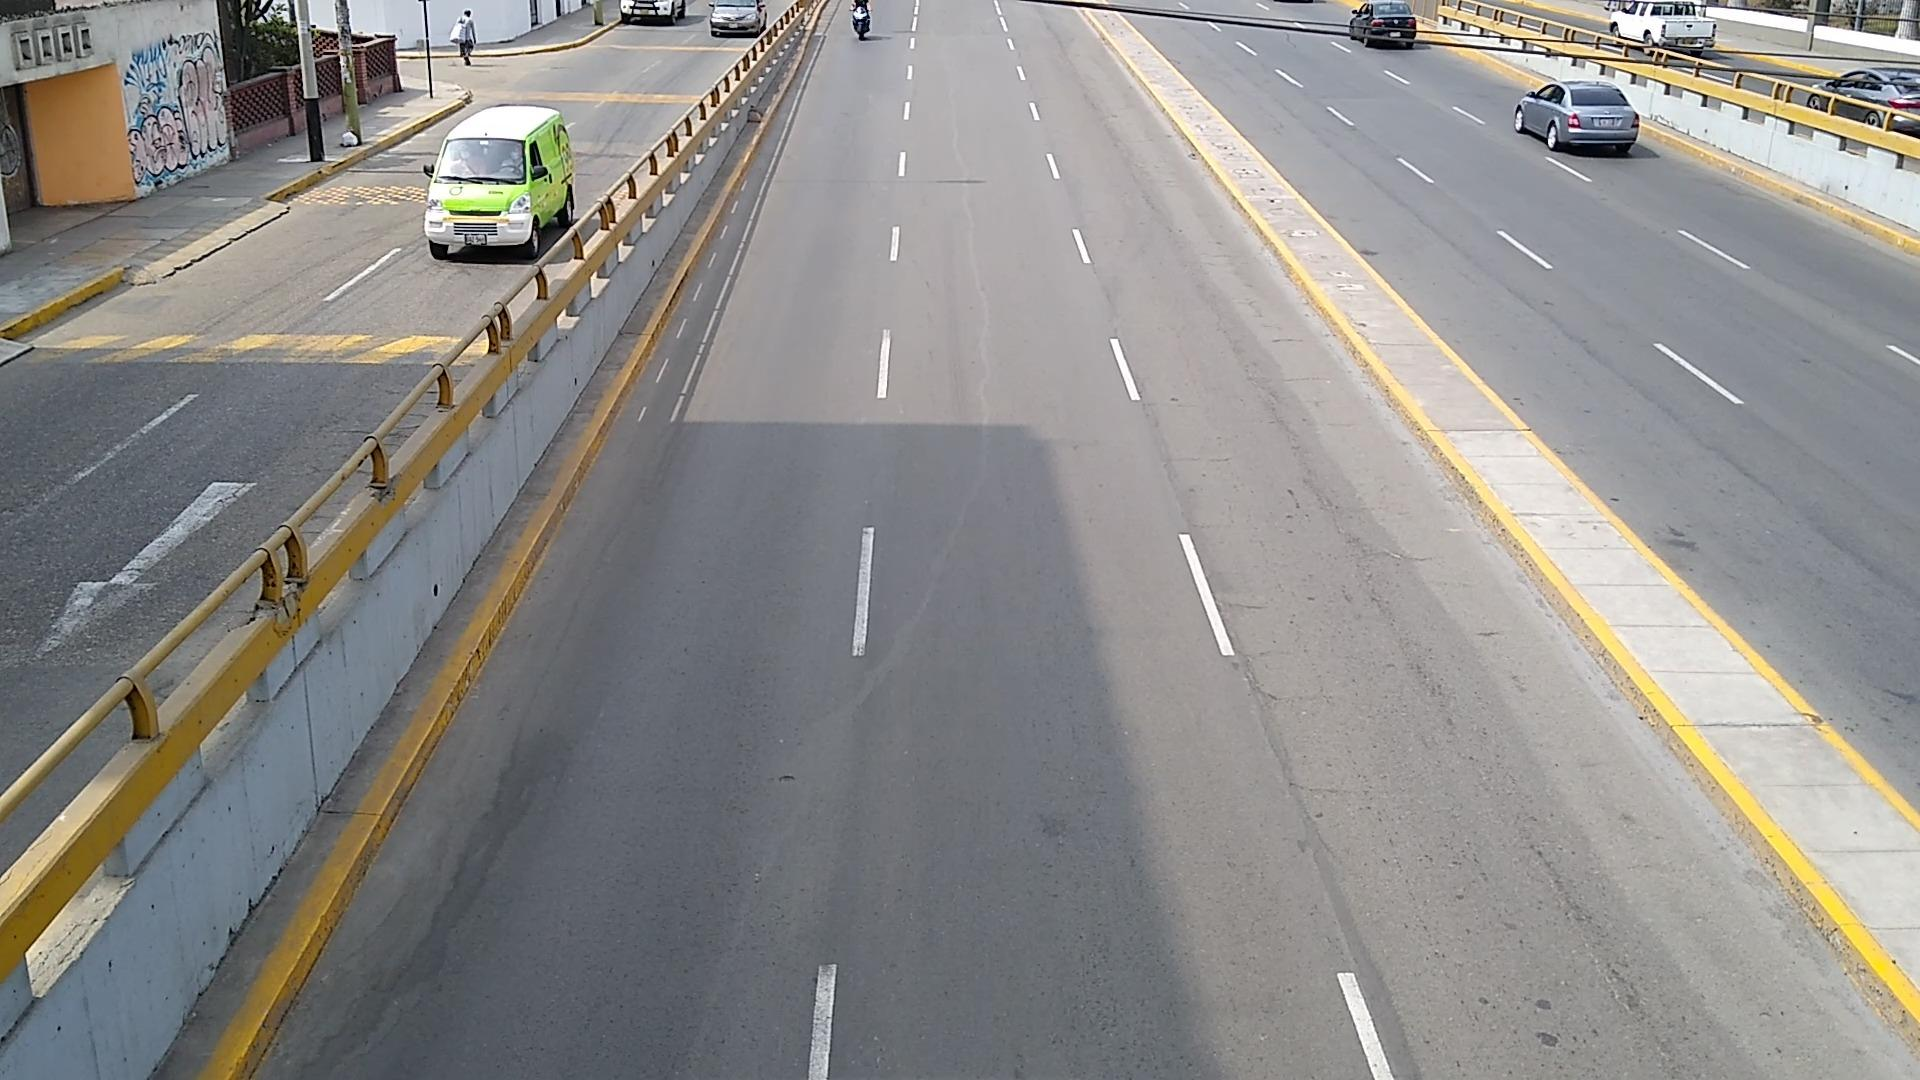car: (311, 0, 338, 30)
